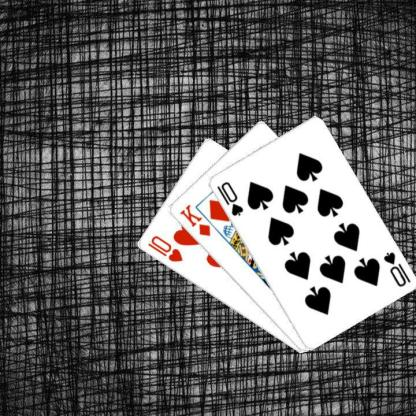10H: (145, 233, 184, 263)
10S: (380, 249, 412, 288), (214, 179, 244, 217)
KD: (177, 202, 211, 238)
